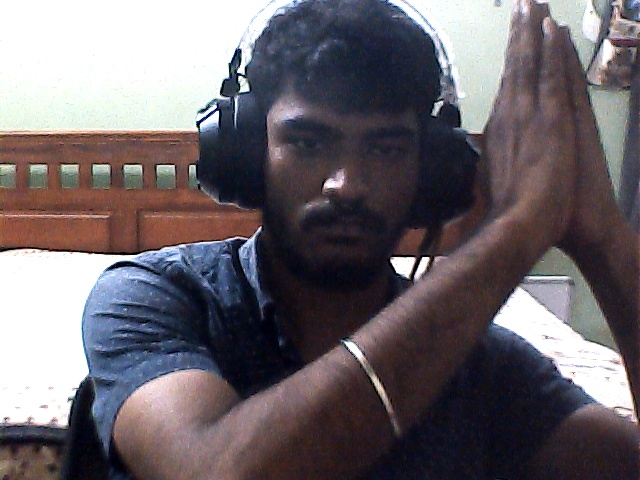Sign: (478, 4, 617, 242)
